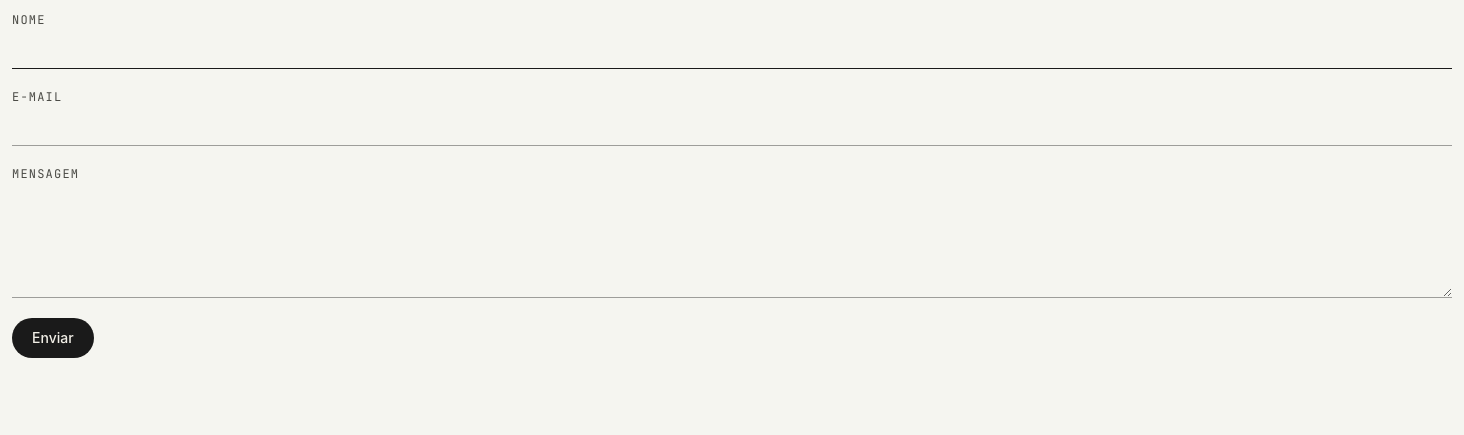
Test: ContactForm › mostra o erro de cada campo ao enviar vazio, ligado ao campo
The width and height of the screenshot is (1464, 435).
Click the button "Enviar": (53, 338) [12,318,94,358]
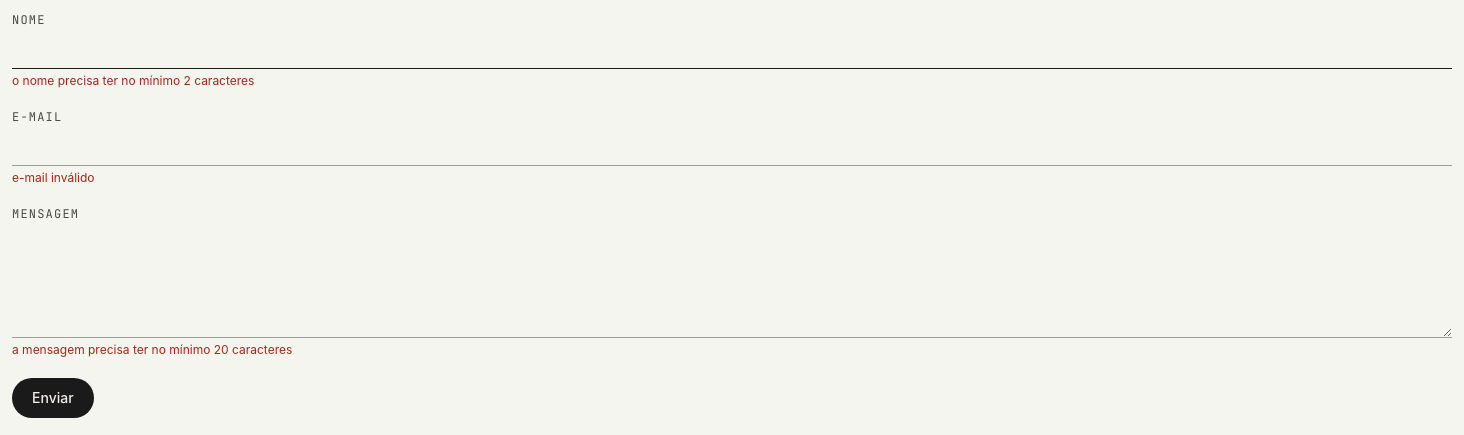
Expected: the text "o nome precisa ter no mínimo 2 caracteres" is shown, [12,73,254,88]
